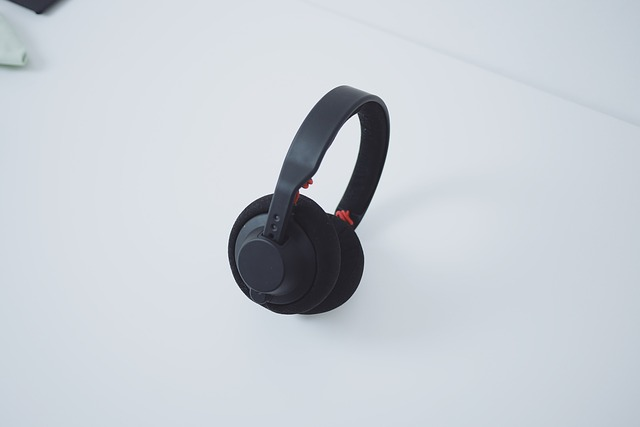headphones: (229, 86, 391, 316)
